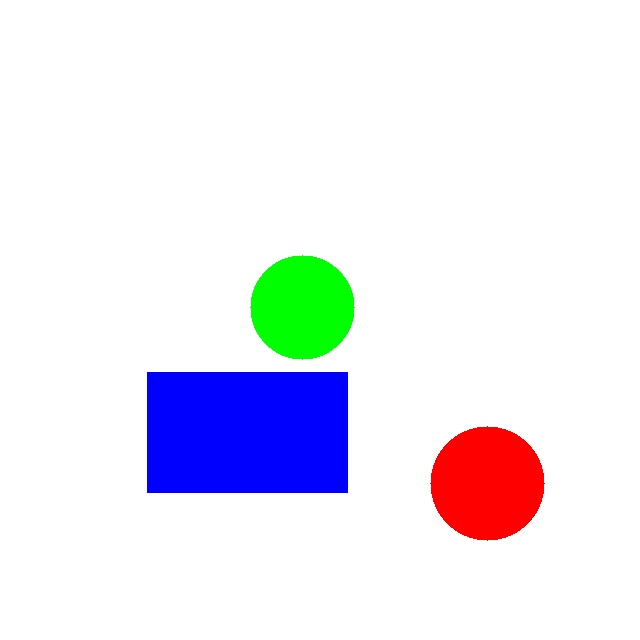cartao: (147, 372, 347, 492)
rosca_externa: (250, 255, 354, 359)
rosca_interna: (430, 426, 544, 540)
